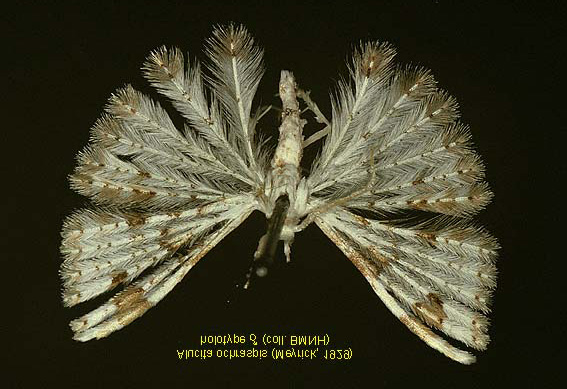Alucitidae: (50, 26, 500, 362)
moth: (52, 28, 502, 364)
